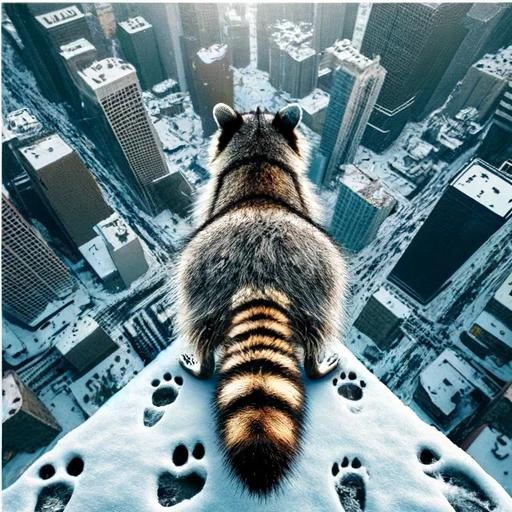raccoon: (161, 93, 358, 508)
